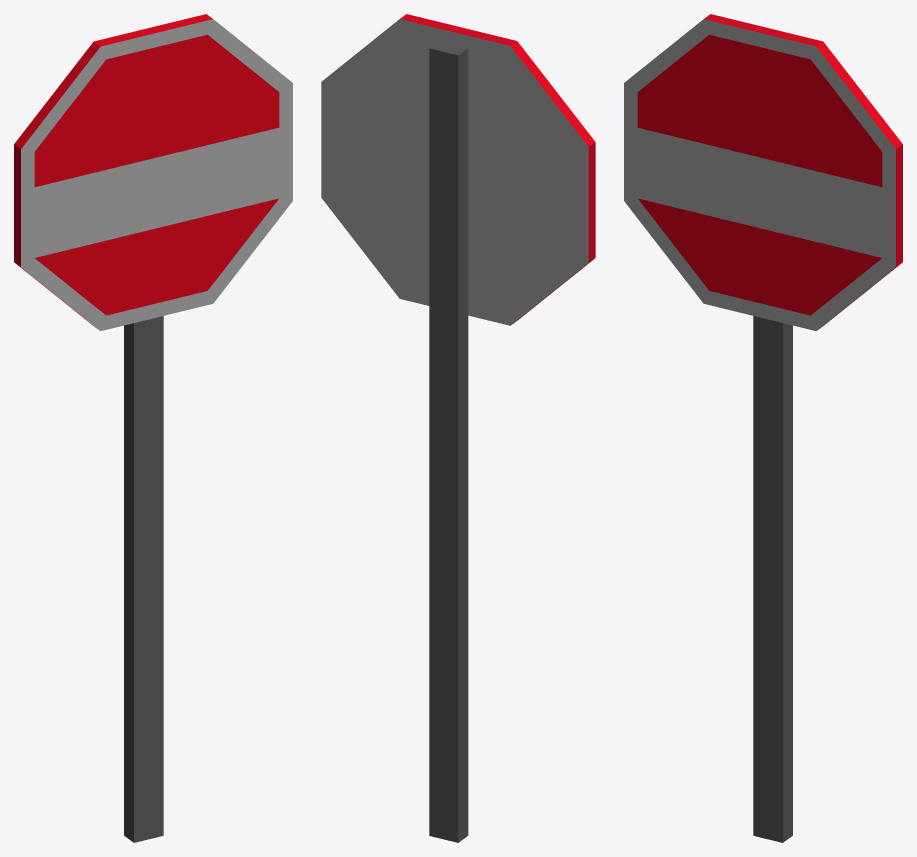
The model's file is Stop.fbx.
3 views of the same model, side by side, from view 1: azimuth 30°, elevation 25°; view 2: azimuth 150°, elevation 25°; view 3: azimuth 330°, elevation 25° (orthographic).
Visible parts, largest first — view 1: Cube; view 2: Cube; view 3: Cube.
Boxes of the visible parts, x1,y1,x2,y2 form: Cube: (14, 14, 292, 842); Cube: (321, 14, 595, 842); Cube: (624, 14, 902, 842).
Bounding box in the file's own units: 7.39 × 21.1 × 0.863.
